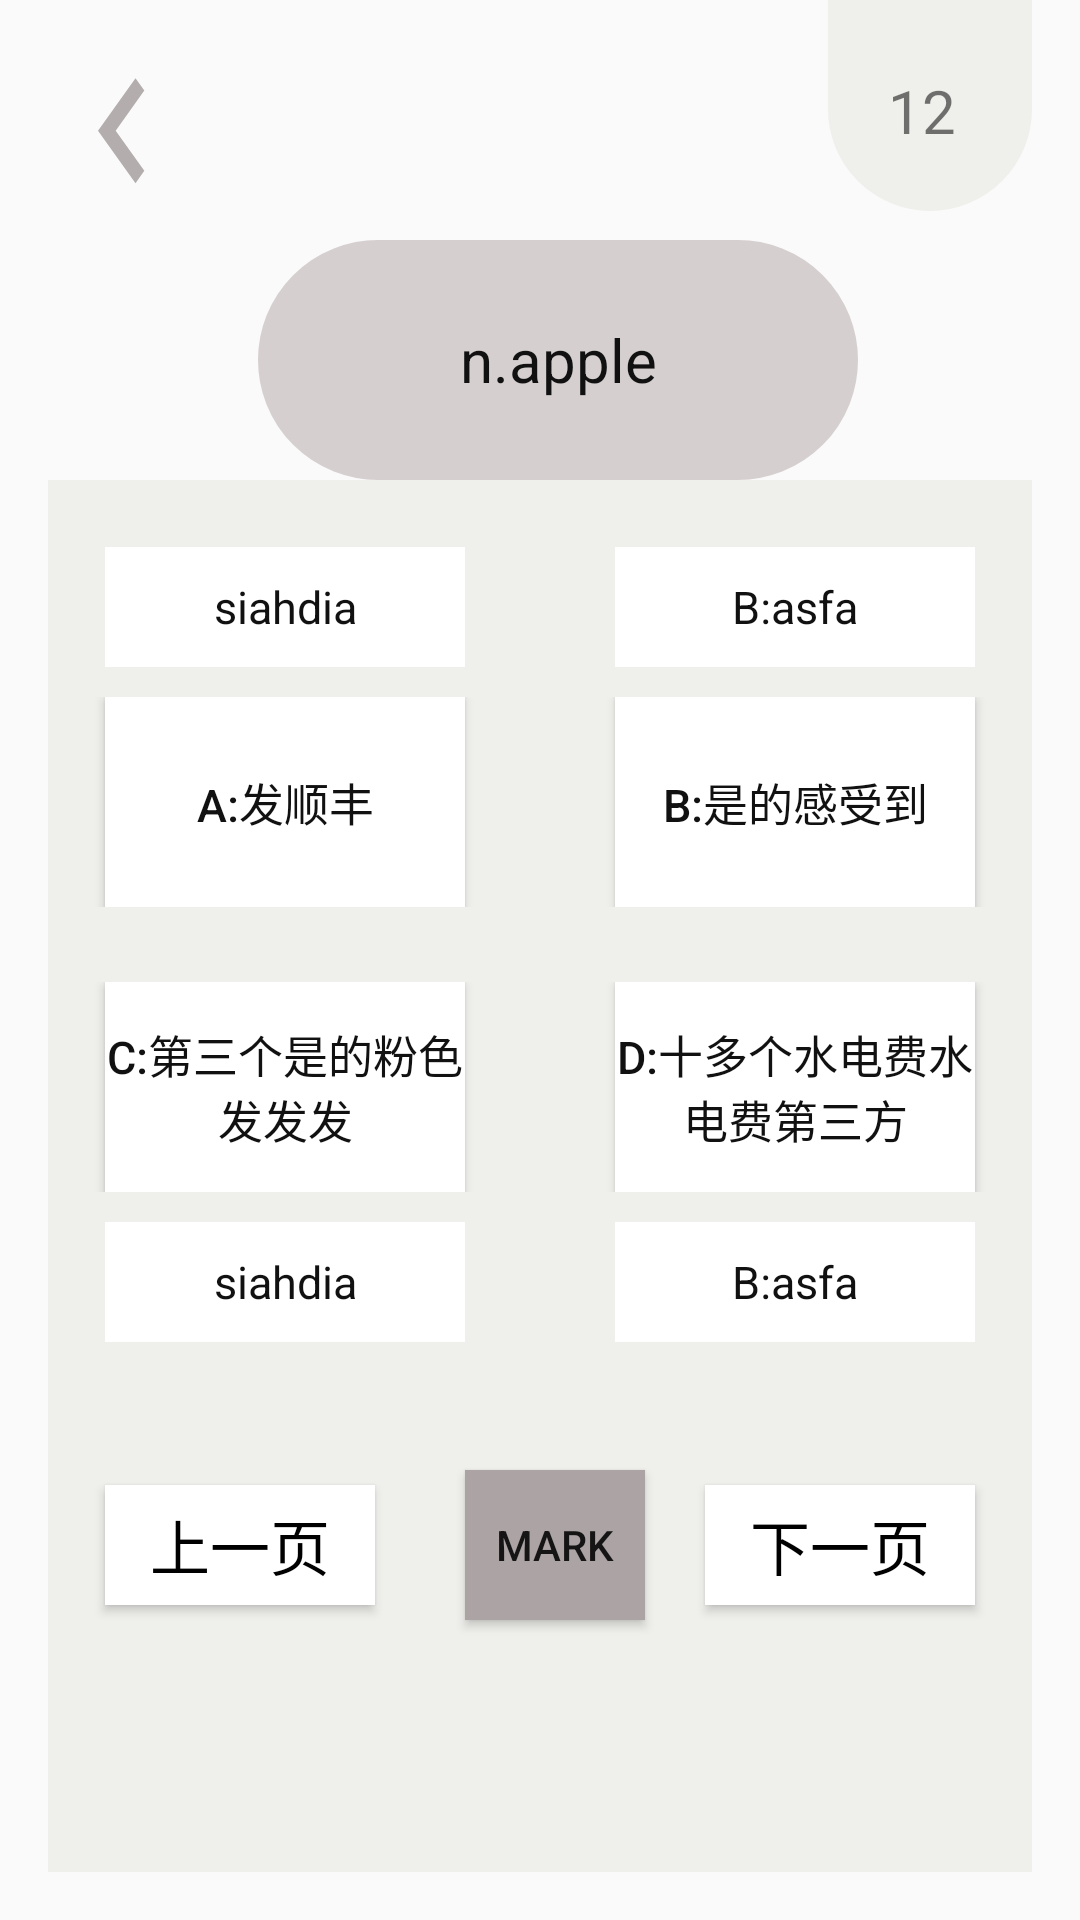

Point at icon controls on the screen. Image size 1080 x 1920, points as point (x, y).
keyboard arrow left: point (121, 130)
